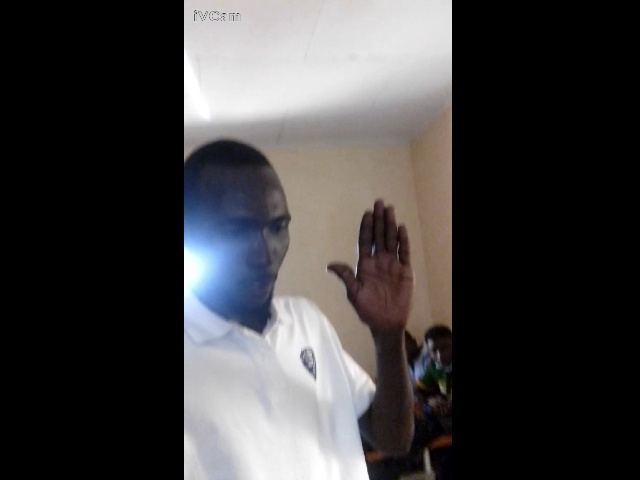hi: (323, 186, 428, 364)
